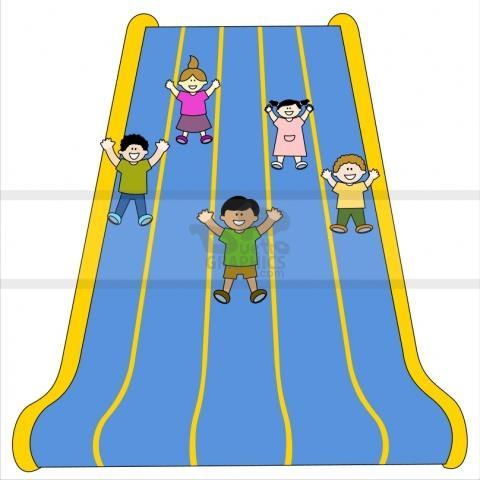person: (184, 192, 292, 315), (89, 125, 173, 232), (156, 51, 225, 148), (316, 149, 385, 234), (258, 94, 321, 174)
